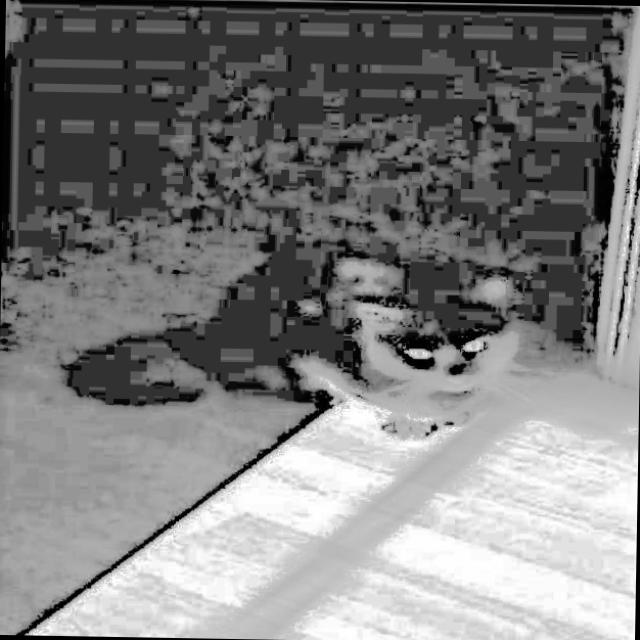Cat: (54, 195, 564, 448)
